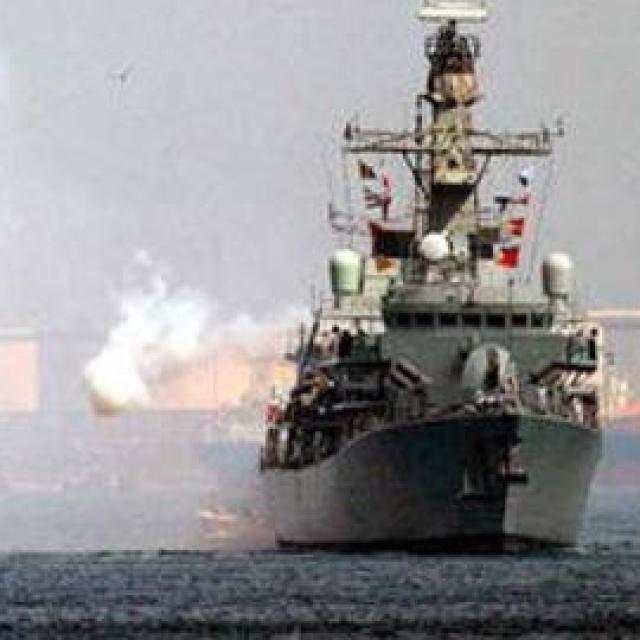navalvessels: (239, 0, 614, 567)
